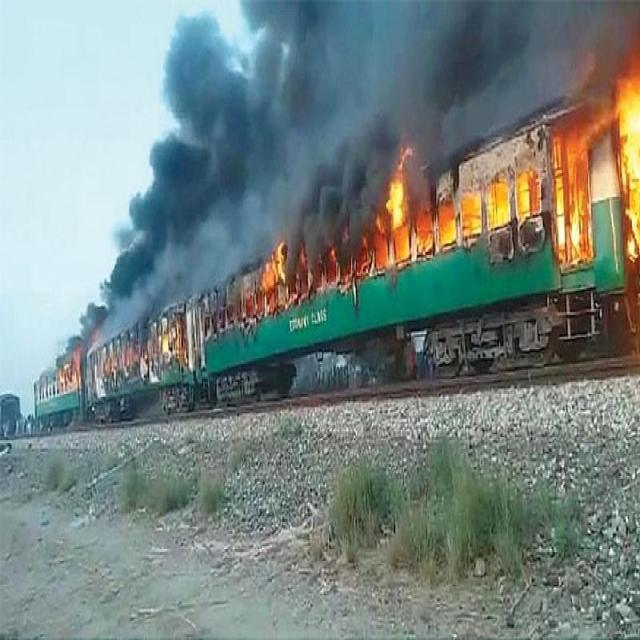Fire: (556, 136, 594, 264)
Smoke: (274, 5, 543, 118), (158, 161, 306, 246), (311, 134, 378, 217)
